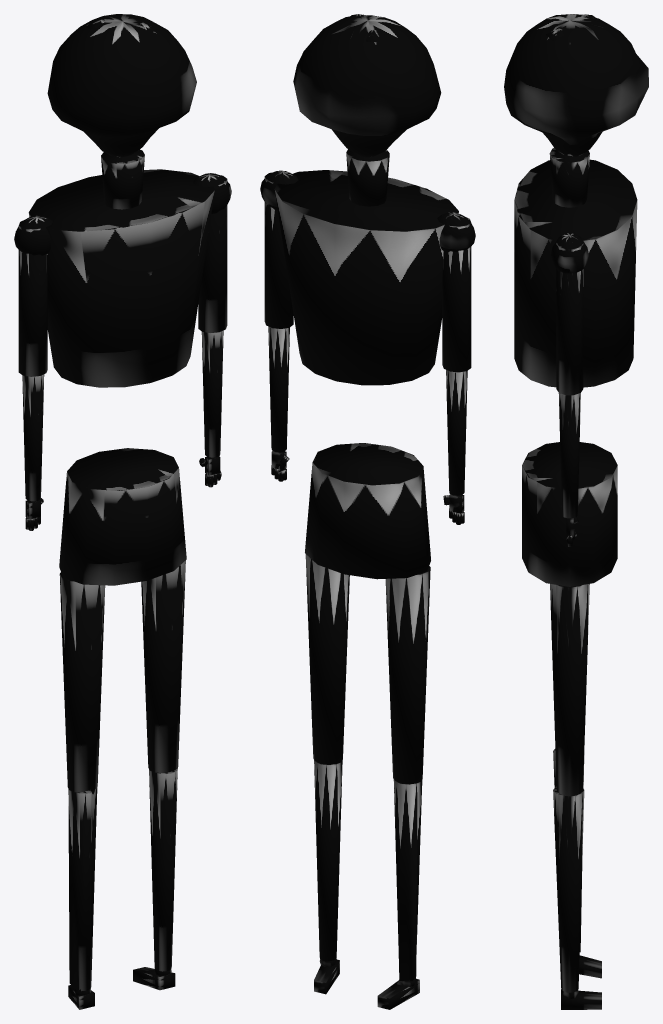
Rendered from zombie_runner_1.glb.
3 views of the same model, side by side, from view 1: azimuth 30°, elevation 25°; view 2: azimuth 150°, elevation 25°; view 3: azimuth 270°, elevation 25° (orthographic).
Visible parts, largest first — view 1: zombie_runner_1; view 2: zombie_runner_1; view 3: zombie_runner_1.
Boxes of the visible parts, x1=… form: zombie_runner_1: x1=14, y1=14, x2=231, y2=1009; zombie_runner_1: x1=260, y1=14, x2=475, y2=1009; zombie_runner_1: x1=504, y1=14, x2=648, y2=1009.
Size of the model in its own units: 0.3758 by 1.66 by 0.2244.
Materials: 1 (1 with a texture image).
